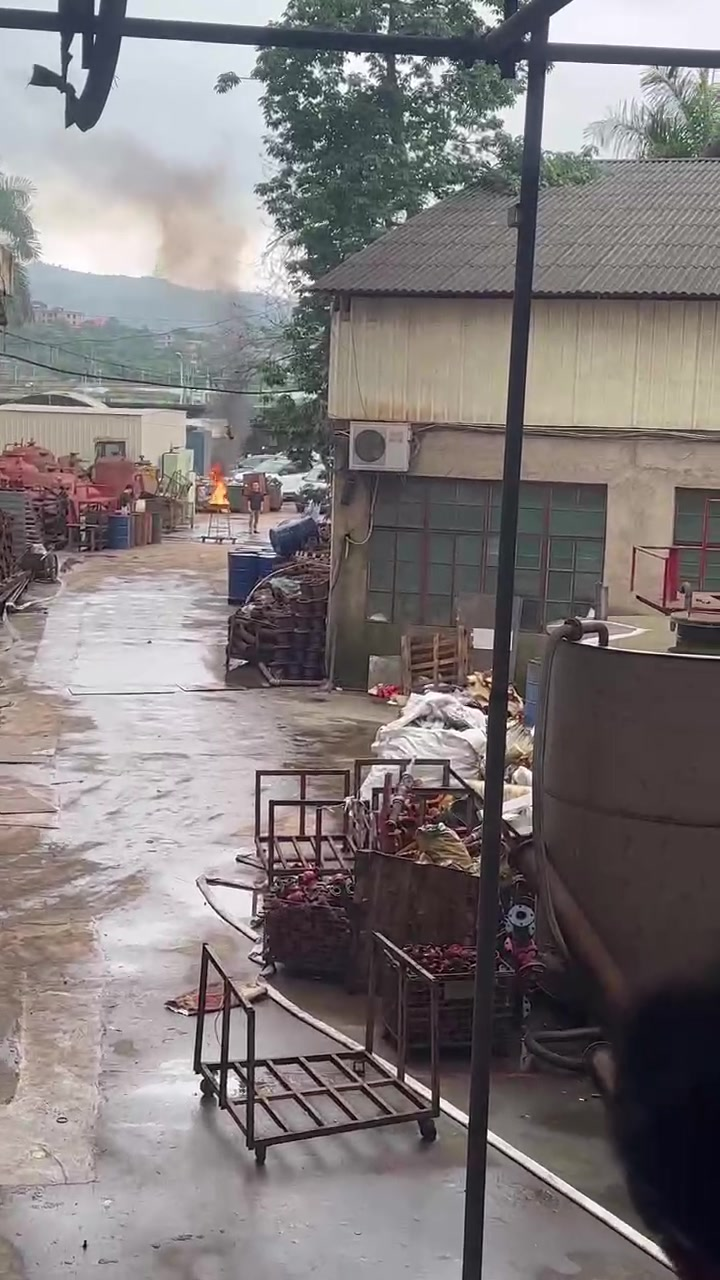fire: (207, 464, 229, 504)
